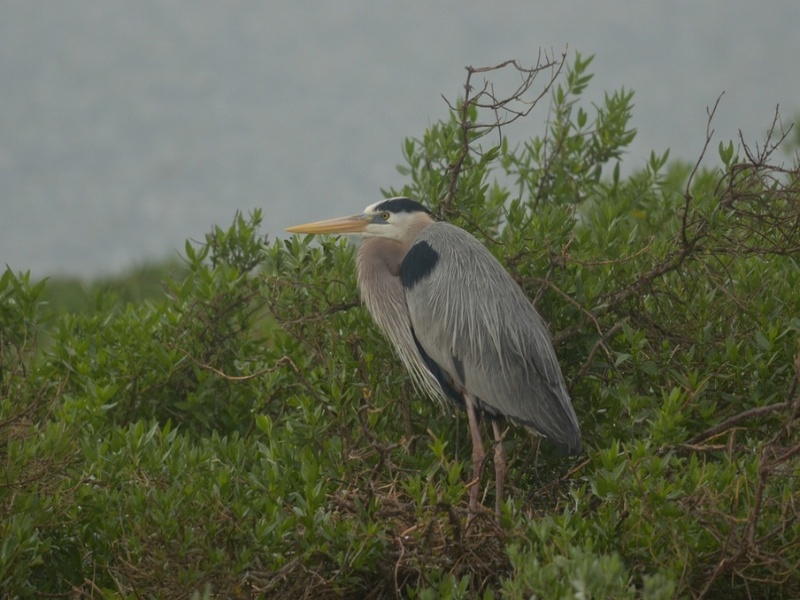heron: (283, 195, 584, 533)
